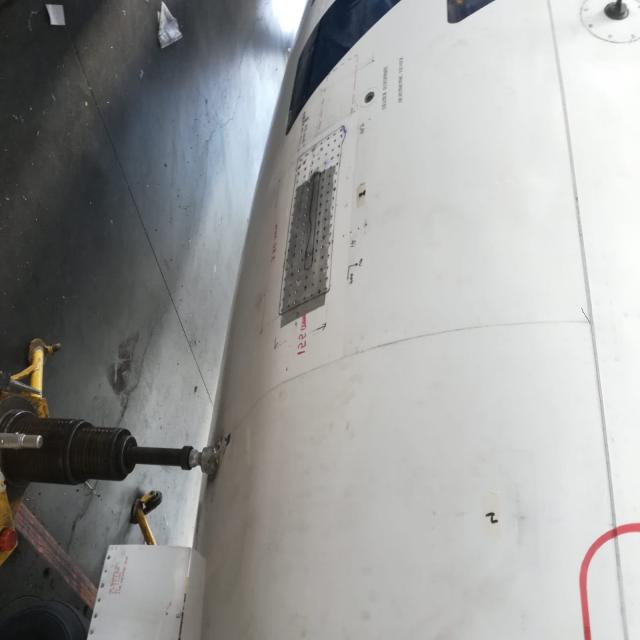Rupture: (577, 305, 597, 329)
